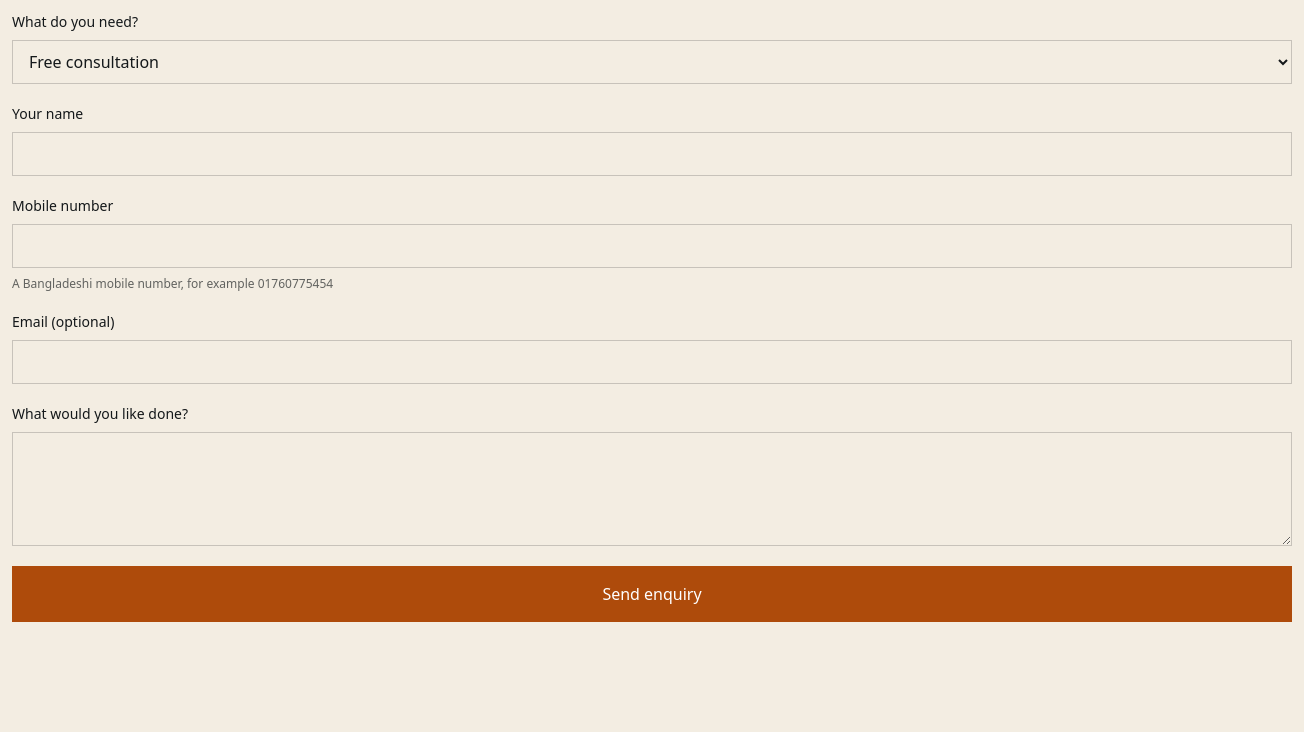
Test: LeadForm › rejects a bad phone number in the browser, before the request
Type "Rahim" into the field labelled "Your name" at (652, 154), box [12,132,1292,176]
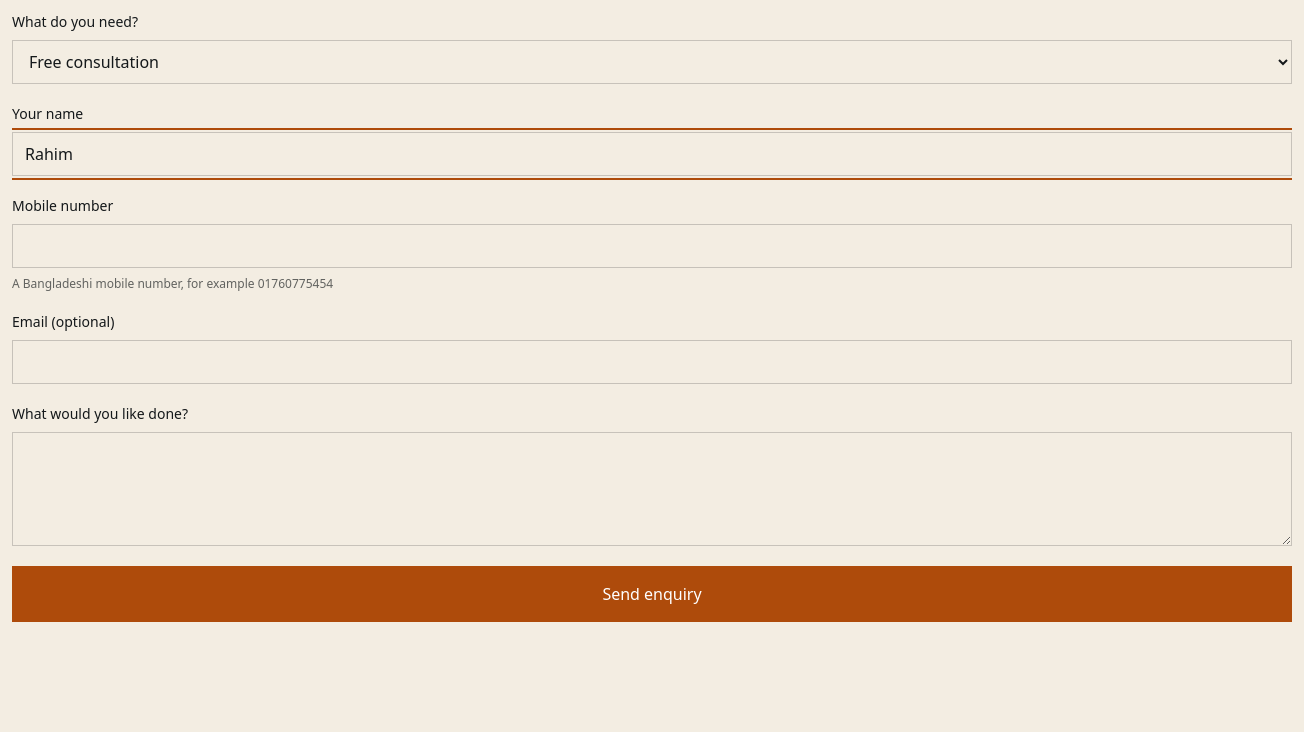
Type "12345" into the field labelled "Mobile number" at (652, 246), box [12,224,1292,268]
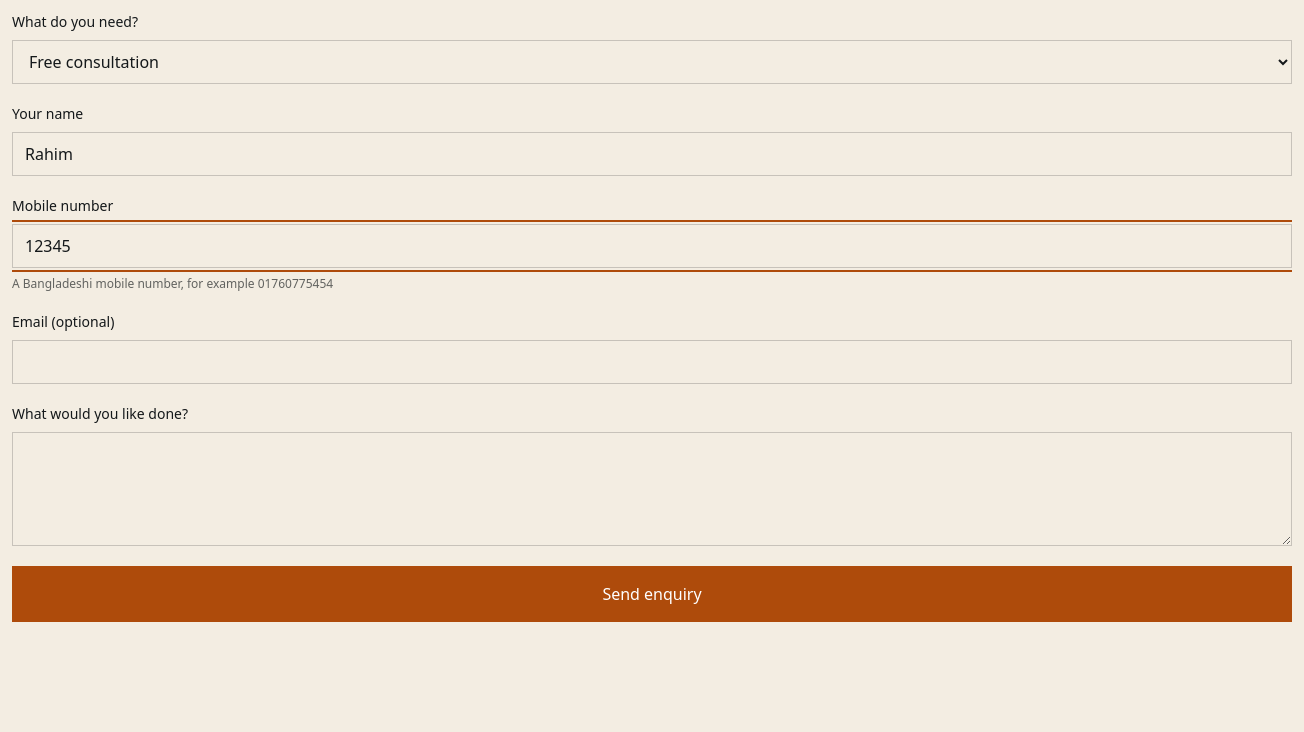
Click the button "Send enquiry" at (652, 594), box [12,566,1292,622]
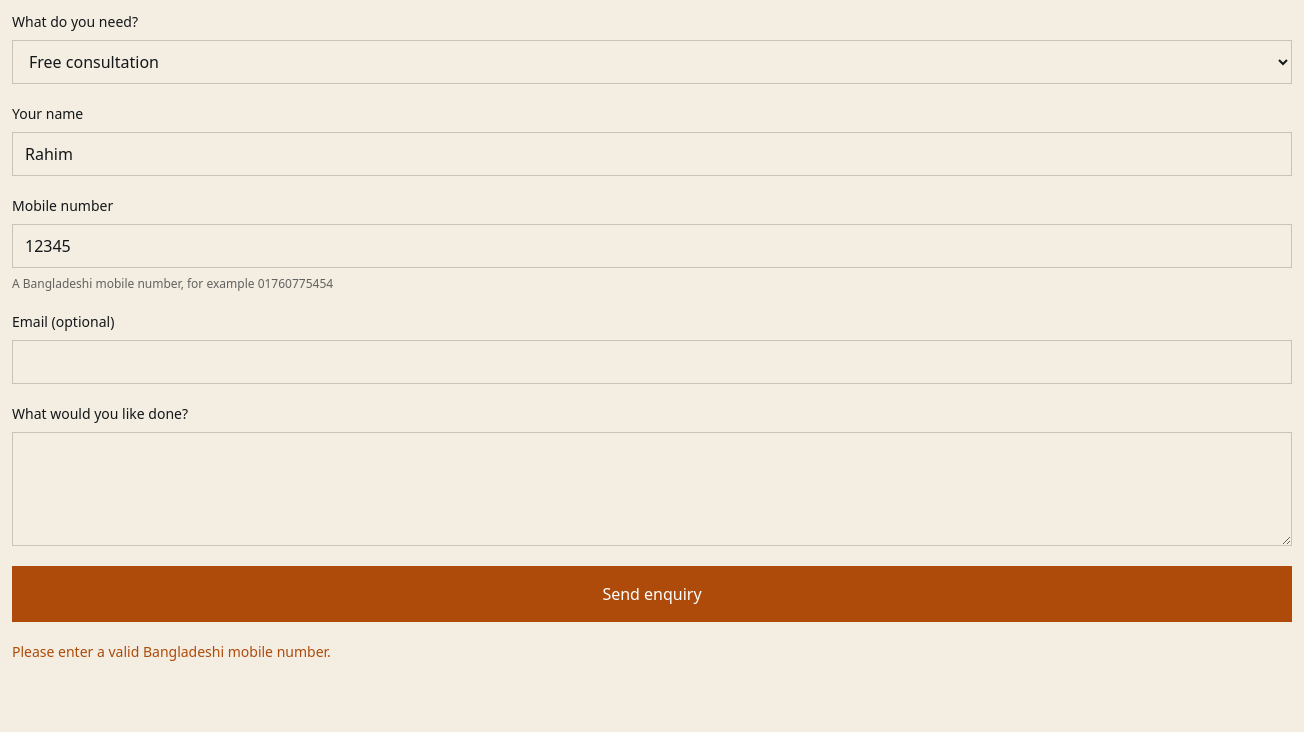
Expected: the text "Please enter a valid Bangladeshi mobile number." is shown, [12,642,331,661]
